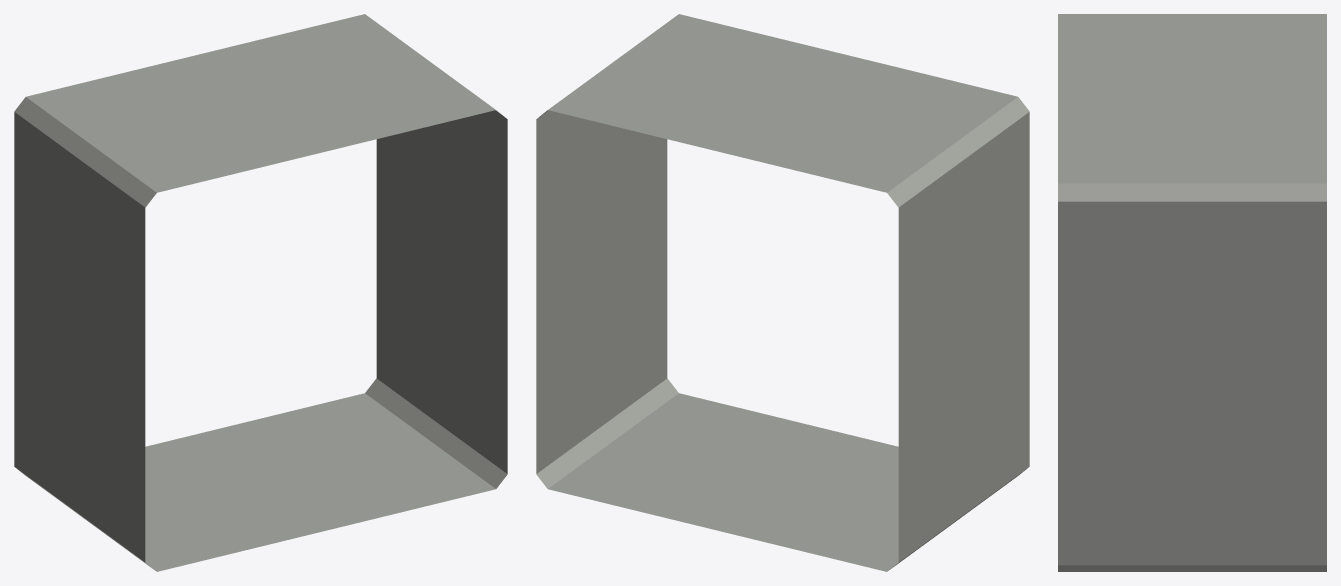
The model's file is Waypoint FX.FBX.
The picture shows the model from 3 angles, left to right: view 1: azimuth 30°, elevation 25°; view 2: azimuth 150°, elevation 25°; view 3: azimuth 270°, elevation 25°; orthographic projection. The views are drawn at different scales.
Parts seen in each view (by area): view 1: Waypoint FX; view 2: Waypoint FX; view 3: Waypoint FX.
Boxes of the visible parts, bbox=[...] form: Waypoint FX: bbox=[14, 14, 507, 571]; Waypoint FX: bbox=[536, 14, 1029, 571]; Waypoint FX: bbox=[1058, 14, 1326, 571].
Size of the model in its own units: 74.37 by 74.37 by 46.67.
1 material, 1 textured.
